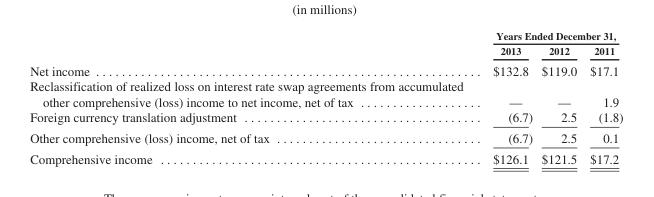table: (29, 29, 622, 165)
table column: (29, 29, 477, 165), (477, 29, 536, 165), (536, 29, 582, 165), (582, 29, 622, 165)
table column header: (29, 29, 622, 59)
table row: (29, 78, 622, 109), (29, 127, 622, 148), (29, 59, 622, 78), (29, 109, 622, 127), (29, 42, 622, 59), (29, 148, 622, 165), (29, 29, 622, 42)
table spanning cell: (477, 29, 622, 42)
